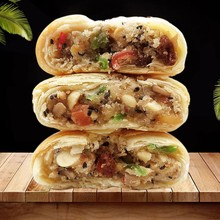MoonCake: (33, 127, 191, 191), (31, 73, 191, 131), (33, 15, 187, 75)
